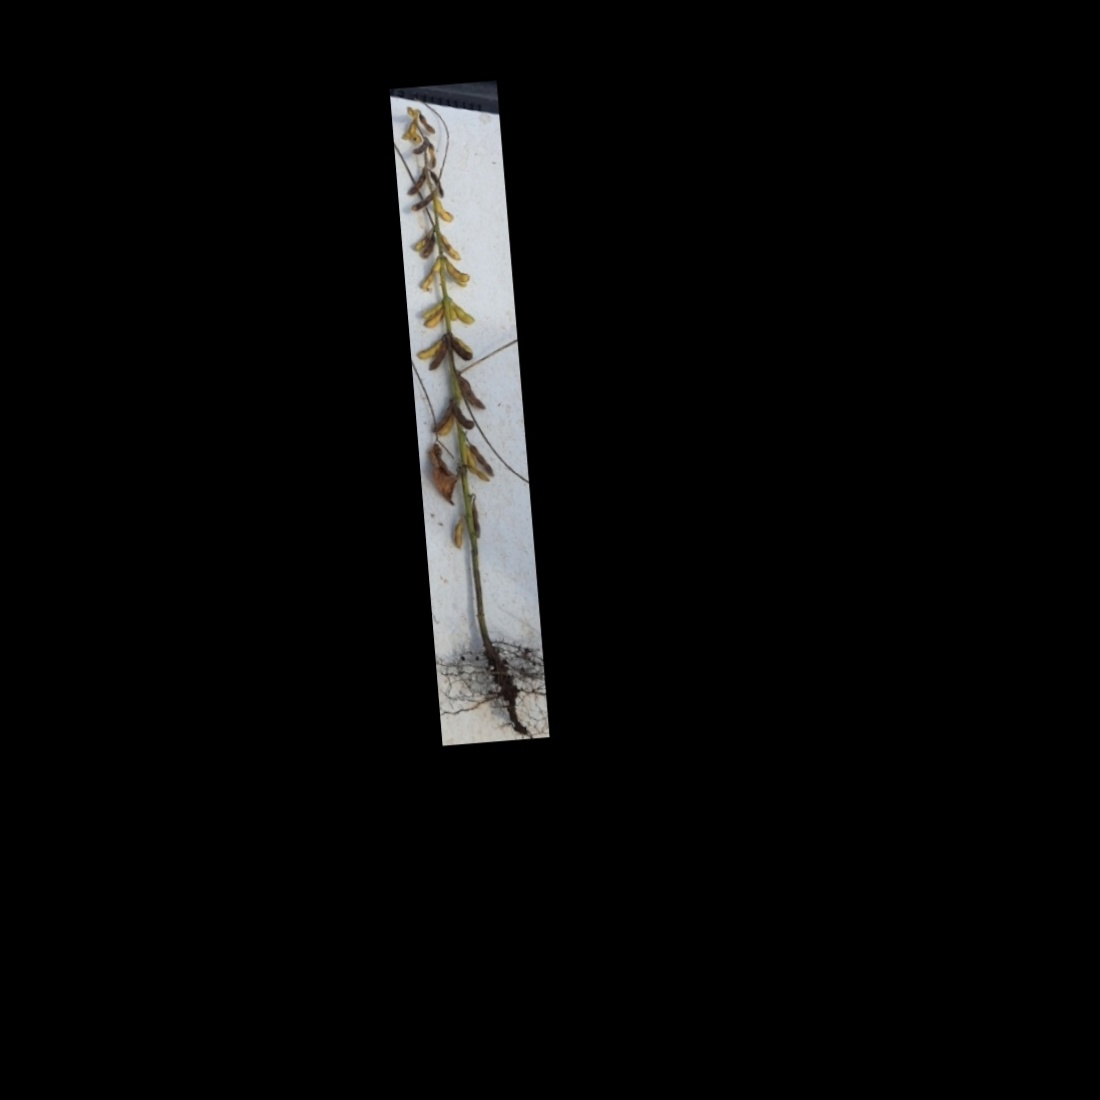pod: (458, 374, 487, 414), (470, 442, 499, 479), (402, 167, 428, 198), (449, 517, 466, 553), (428, 167, 446, 201), (407, 192, 434, 213), (418, 112, 438, 136), (468, 463, 490, 486)
soy: (397, 95, 536, 724)
